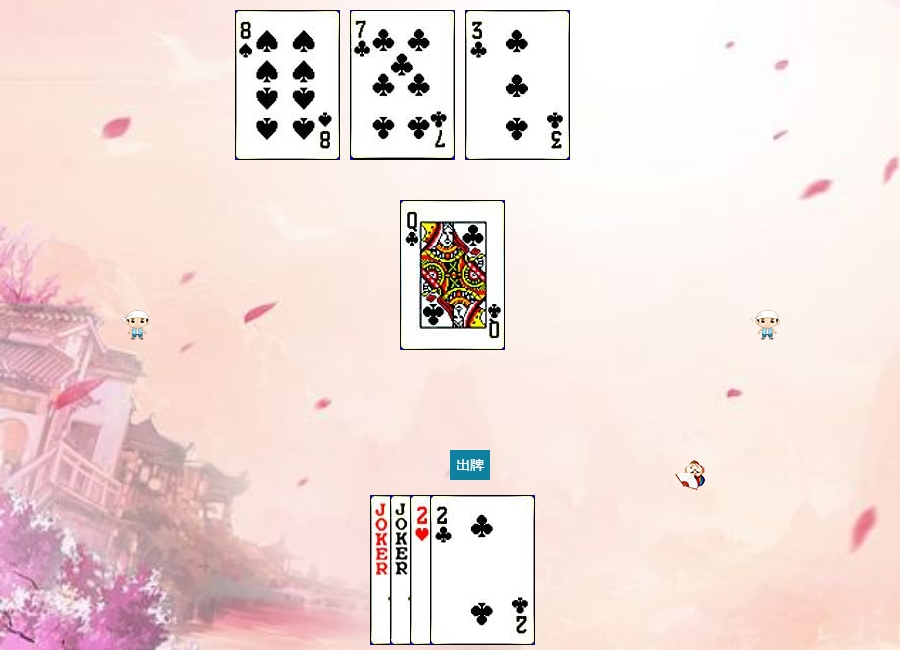12~2: (400, 200, 505, 350)
15~2: (430, 495, 535, 645)
15~3: (410, 495, 515, 645)
17~3: (390, 495, 495, 645)
18~4: (370, 495, 475, 645)
3~2: (465, 10, 570, 160)
7~2: (350, 10, 455, 160)
8~4: (235, 10, 340, 160)
